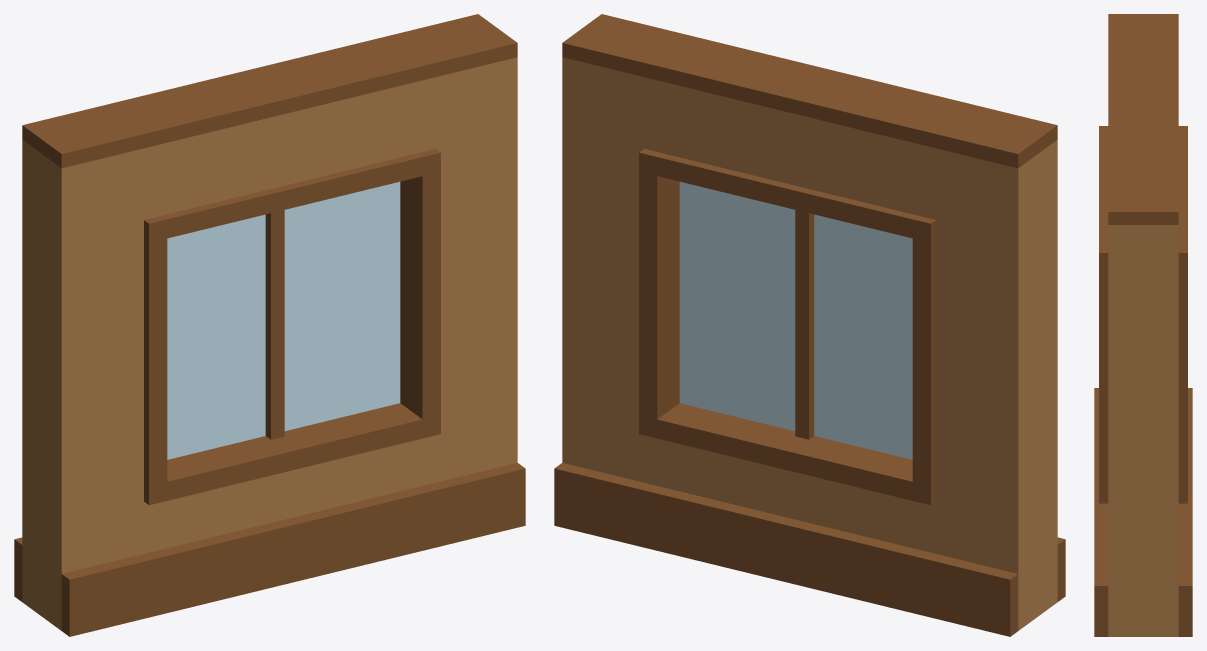
File: wall-window.glb
3 renders of one model, left to right at view 1: azimuth 30°, elevation 25°; view 2: azimuth 150°, elevation 25°; view 3: azimuth 270°, elevation 25°, orthographic. The views are drawn at different scales.
Visible parts, largest first — view 1: wall-window; view 2: wall-window; view 3: wall-window.
Boxes of the visible parts, bbox=[...] form: wall-window: bbox=[14, 14, 525, 636]; wall-window: bbox=[554, 14, 1065, 636]; wall-window: bbox=[1094, 14, 1192, 636].
Size of the model in its own units: 1 by 1 by 0.21.
1 material, 1 textured.
